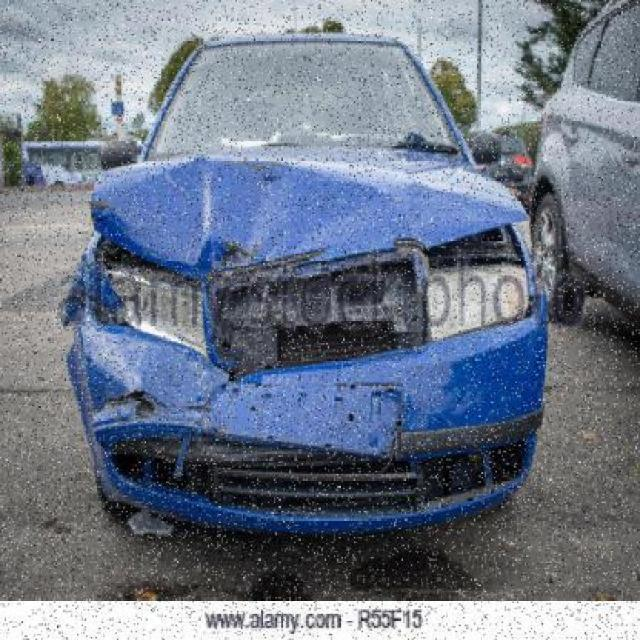bonnet-dent: (86, 162, 523, 278)
front-bumper-dent: (55, 329, 531, 503)
